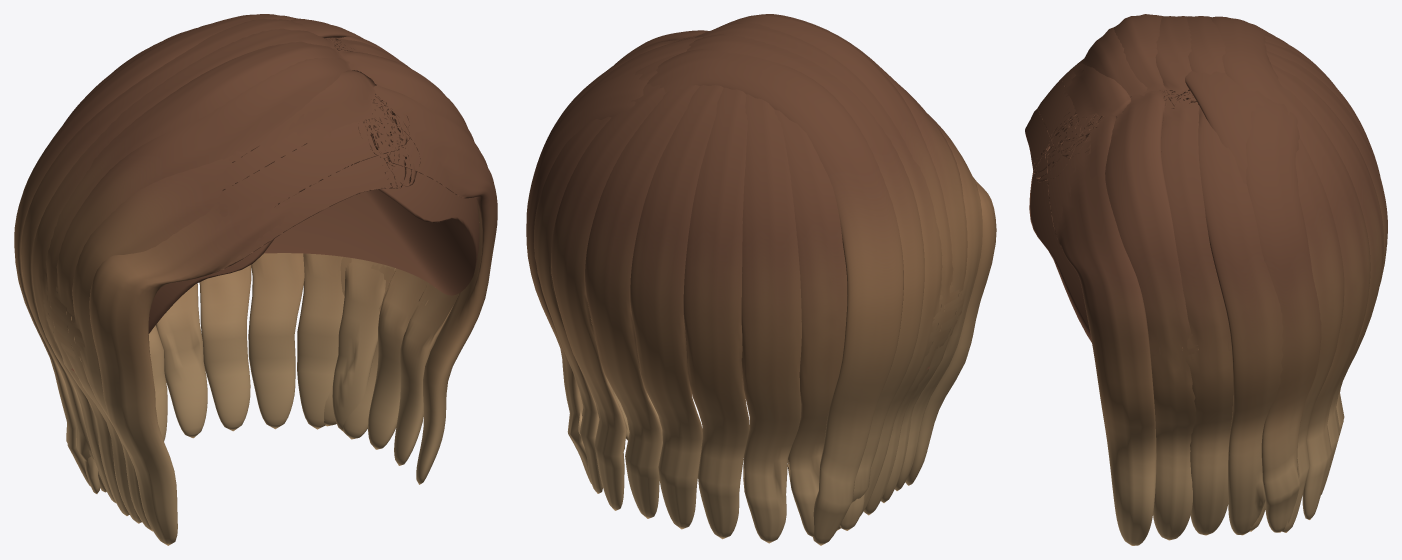
Rendered from Ombre-d62635bb6817253-hair.glb.
3 renders of one model, left to right at view 1: azimuth 30°, elevation 25°; view 2: azimuth 150°, elevation 25°; view 3: azimuth 270°, elevation 25°, orthographic. The views are drawn at different scales.
Visible parts, largest first — view 1: 226 hair / Hair / sculpted 0.002, 226 hair / Hair / sculpted 1.004, 226 hair / Hair / sculpted 2.002, 226 hair / Hair / sculpted 1.003; view 2: 226 hair / Hair / sculpted 0.002, 226 hair / Hair / sculpted 2.002, 226 hair / Hair / sculpted 1.004; view 3: 226 hair / Hair / sculpted 1.004, 226 hair / Hair / sculpted 2.002, 226 hair / Hair / sculpted 0.002, 226 hair / Hair / sculpted 1.003.
Part boxes in pixels (x1,y1,x2,y2): 226 hair / Hair / sculpted 0.002: (14, 14, 428, 545); 226 hair / Hair / sculpted 1.004: (31, 19, 497, 531); 226 hair / Hair / sculpted 2.002: (21, 18, 479, 523); 226 hair / Hair / sculpted 1.003: (71, 172, 479, 371); 226 hair / Hair / sculpted 0.002: (551, 14, 996, 545); 226 hair / Hair / sculpted 2.002: (526, 14, 967, 536); 226 hair / Hair / sculpted 1.004: (526, 22, 982, 543); 226 hair / Hair / sculpted 1.004: (1038, 16, 1384, 545); 226 hair / Hair / sculpted 2.002: (1062, 16, 1387, 540); 226 hair / Hair / sculpted 0.002: (1025, 14, 1380, 535); 226 hair / Hair / sculpted 1.003: (1029, 171, 1091, 342).
Bounding box in the file's own units: 0.9998 × 1.08 × 0.7947.
Materials: 4 (4 with a texture image).
